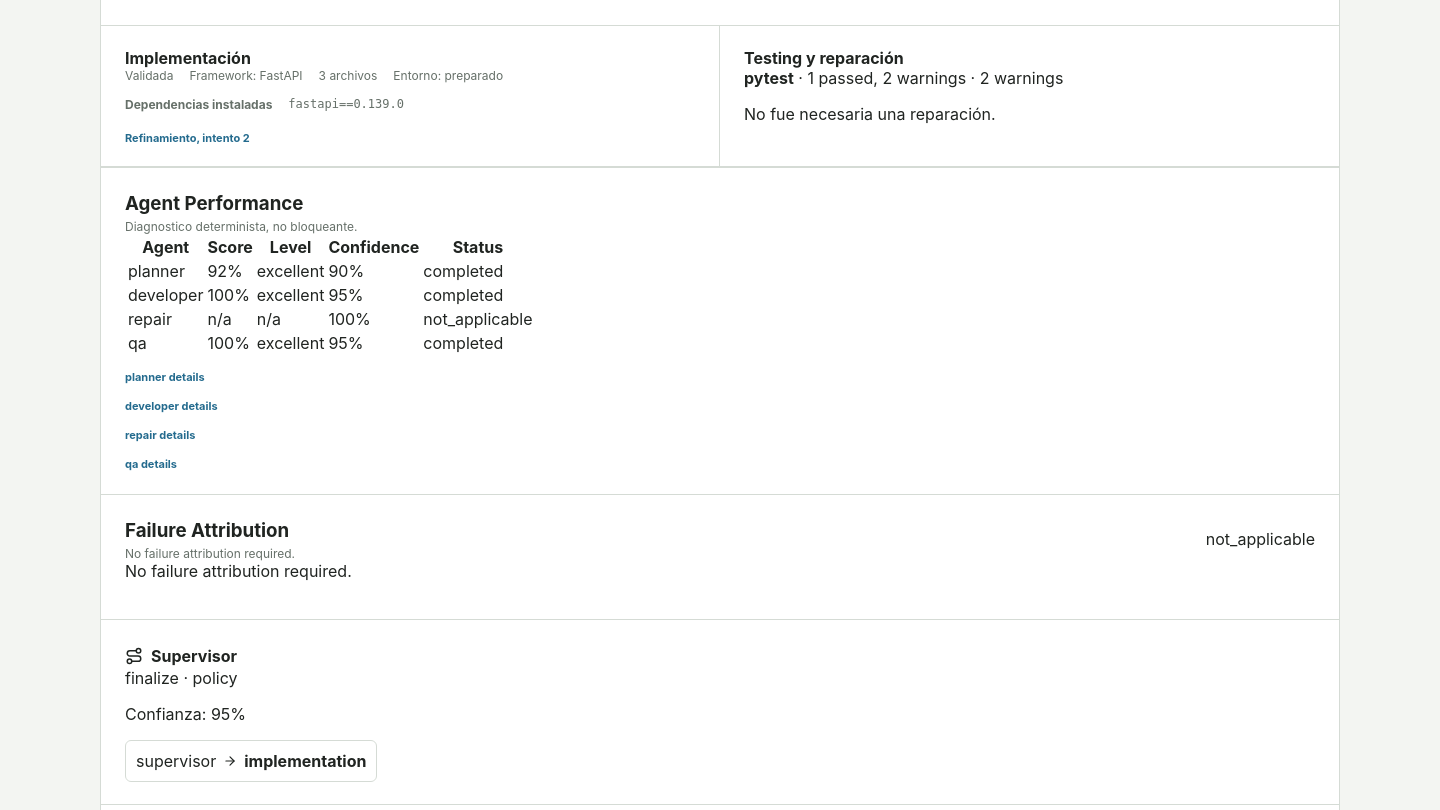
Test: WorkflowExecutionTab summary › renders deterministic agent performance without ranking agents
This screenshot has width=1440, height=810.
(page scrolled)
Check: the element "Agent Performance" is shown, box [101,168,1339,495]
Check: the text "Diagnostico determinista, no bloqueante." is shown, box [125,219,358,234]
Click the heading "developer details" at (171, 406), box [125,399,218,413]
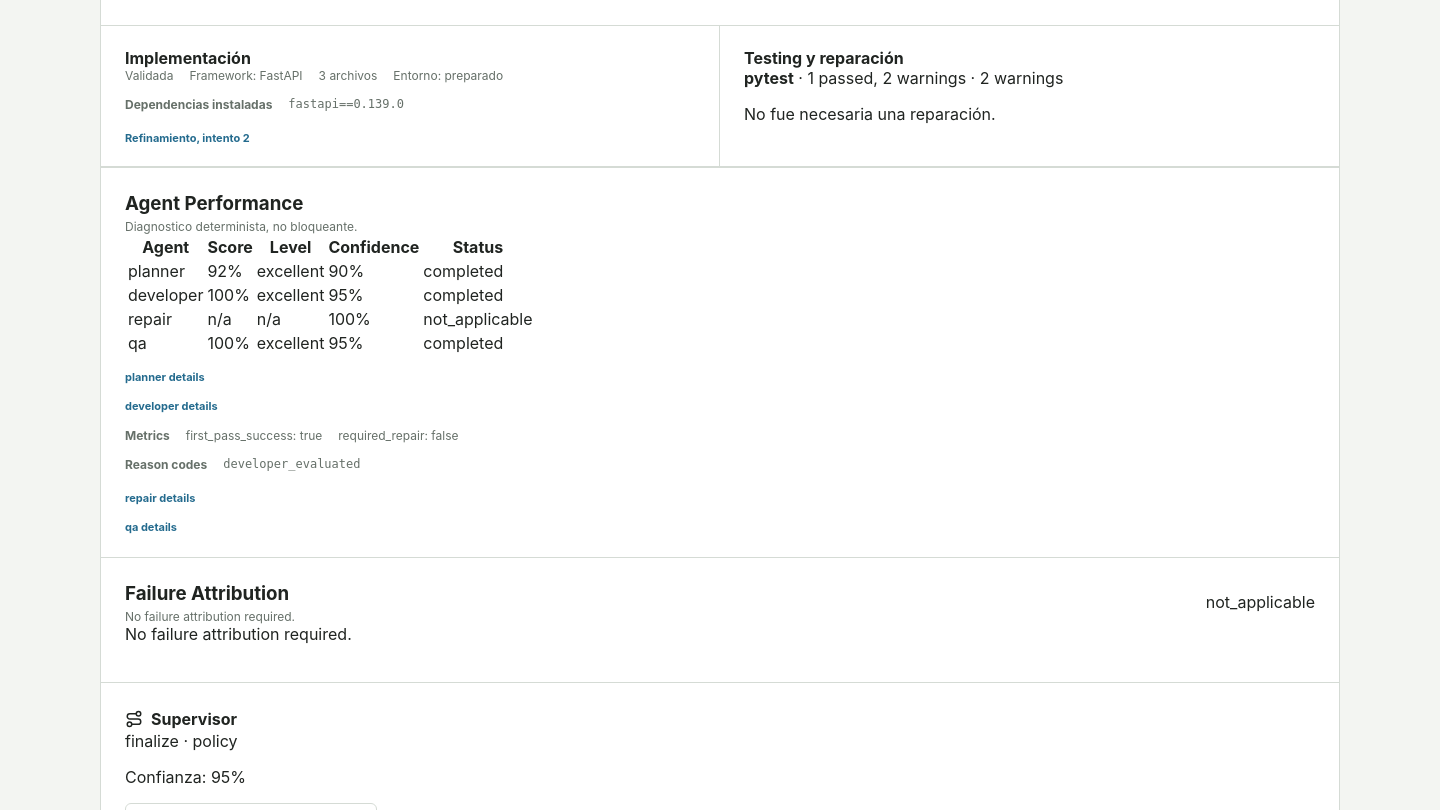
Check: the text "first_pass_success: true" is shown, box [186,428,322,443]
Check: the text "developer_evaluated" is shown, box [223,457,360,471]
